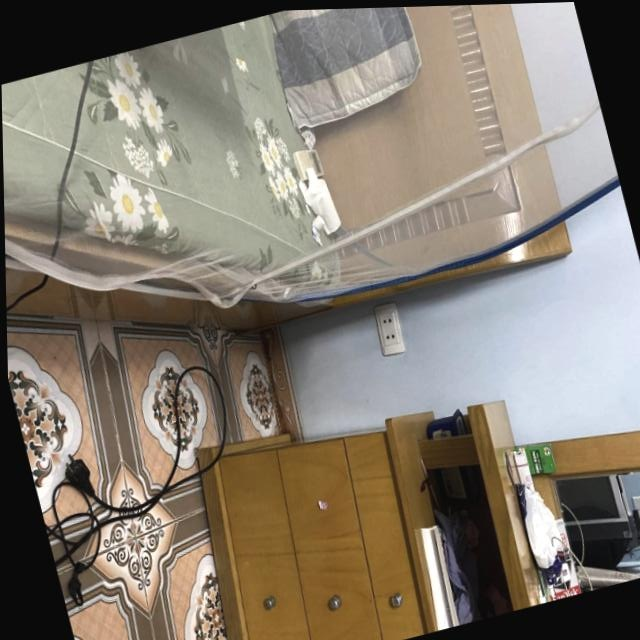outlet: (372, 301, 409, 358)
